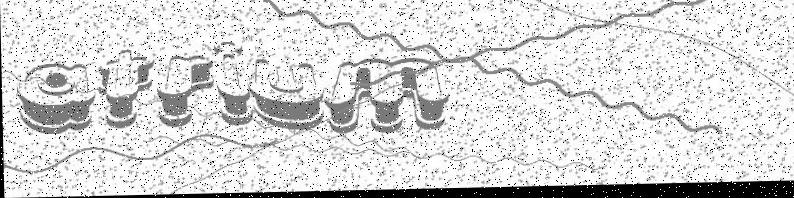a: (15, 62, 96, 136)
i: (212, 42, 254, 128)
m: (323, 58, 445, 135)
r: (155, 54, 216, 129)
t: (96, 49, 153, 130)
u: (246, 58, 325, 134)
